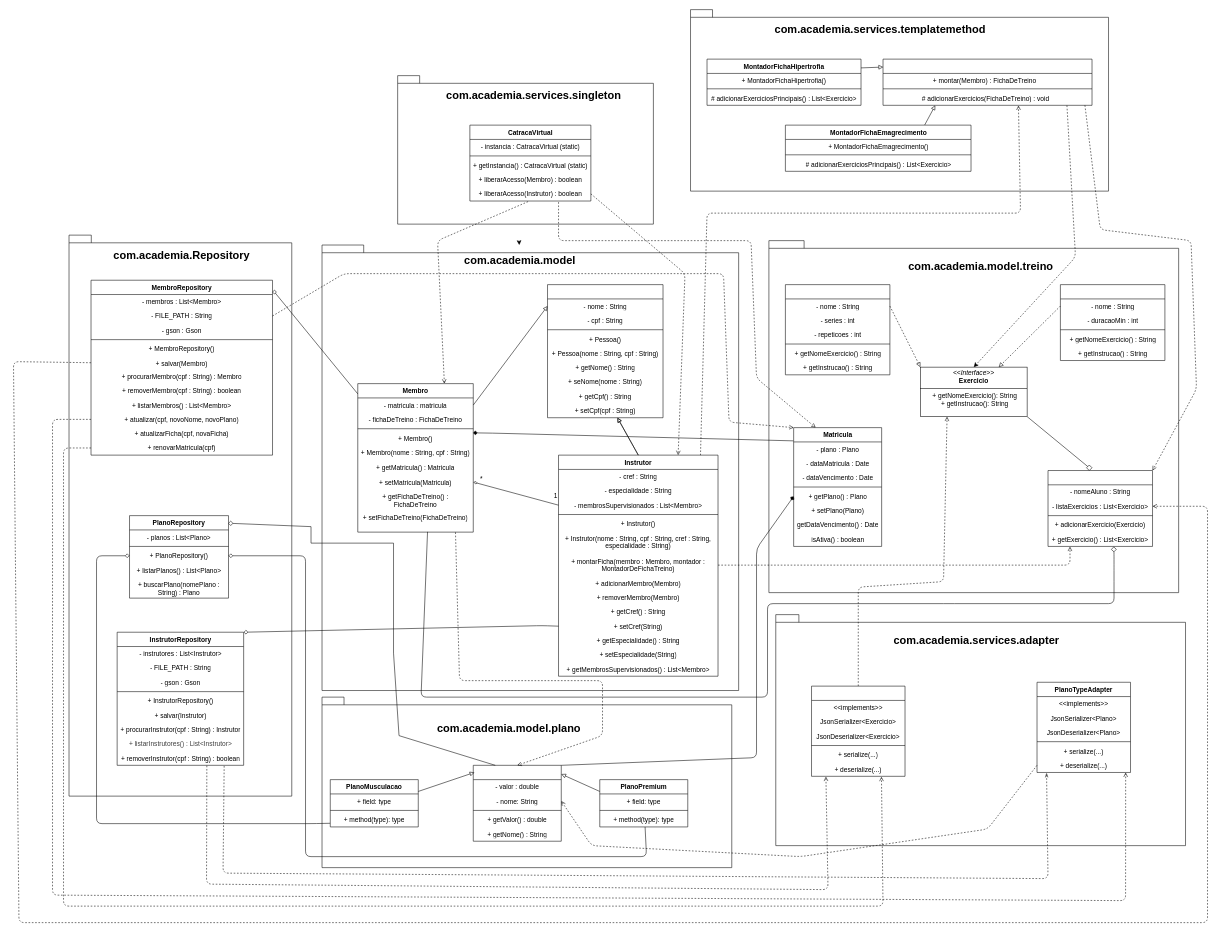
Image size: 1222x937. Some labels were removed from this diagram. Each missing label, with the box of its shape:
<<abstract>> MontadorDeFichaTreino: (882, 59, 1092, 105)
<<abstract>> Pessoa: (547, 284, 663, 418)
<<abstract>> Plano: (473, 765, 561, 841)
ExercicioAerobico: (1060, 284, 1165, 361)
ExercicioMusculacao: (785, 284, 890, 375)
ExercicioTypeAdapter: (811, 686, 905, 776)
FichaDeTreino: (1047, 470, 1153, 546)
